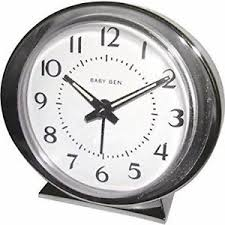alarm_clock: (2, 1, 220, 222), (2, 11, 220, 222)
